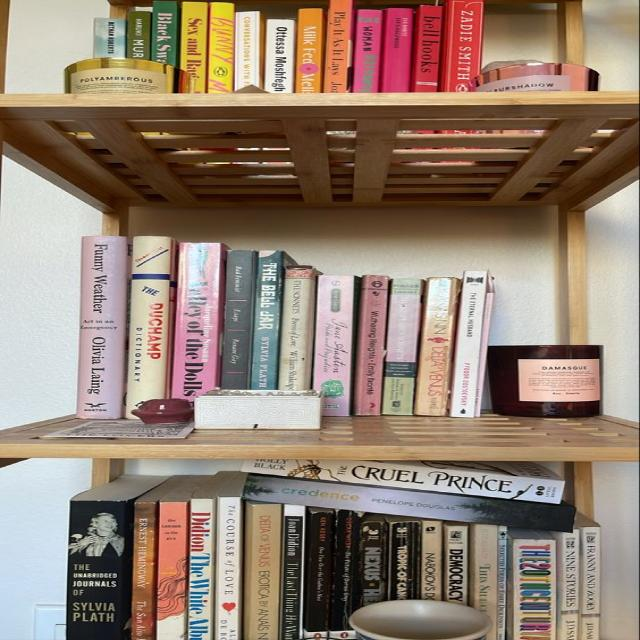book: (242, 474, 574, 531), (242, 461, 564, 504), (76, 236, 126, 418), (125, 237, 175, 418), (170, 244, 226, 402), (69, 501, 128, 640), (312, 274, 359, 416), (413, 277, 460, 416), (449, 271, 492, 418), (381, 279, 423, 415), (218, 250, 255, 389), (247, 251, 284, 389), (508, 538, 556, 639), (278, 266, 317, 390), (354, 276, 388, 415), (469, 524, 507, 639), (247, 503, 277, 640), (438, 0, 482, 91), (303, 508, 334, 637), (331, 510, 360, 631), (217, 498, 239, 640), (387, 517, 421, 600), (578, 513, 600, 639), (323, 0, 353, 92), (163, 502, 183, 640), (379, 8, 412, 91), (179, 1, 208, 93), (410, 5, 440, 91), (295, 8, 325, 93), (350, 10, 381, 92), (136, 501, 154, 640), (192, 501, 210, 640), (360, 513, 387, 605), (207, 3, 233, 93), (558, 529, 579, 639), (264, 19, 295, 93), (235, 11, 260, 91), (444, 524, 468, 605), (419, 520, 443, 600), (286, 503, 299, 640), (151, 1, 178, 66), (93, 19, 126, 58), (126, 8, 151, 59)
candle: (489, 346, 600, 418), (474, 60, 598, 91), (66, 58, 172, 93)
